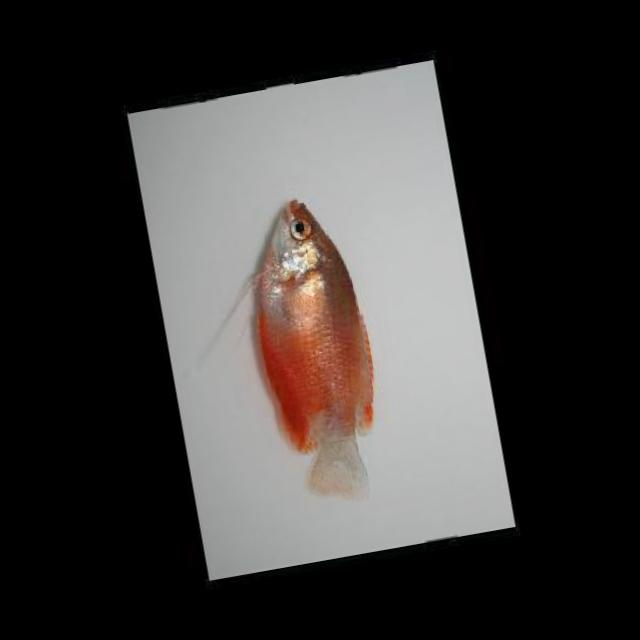Gourami: (230, 188, 403, 516)
